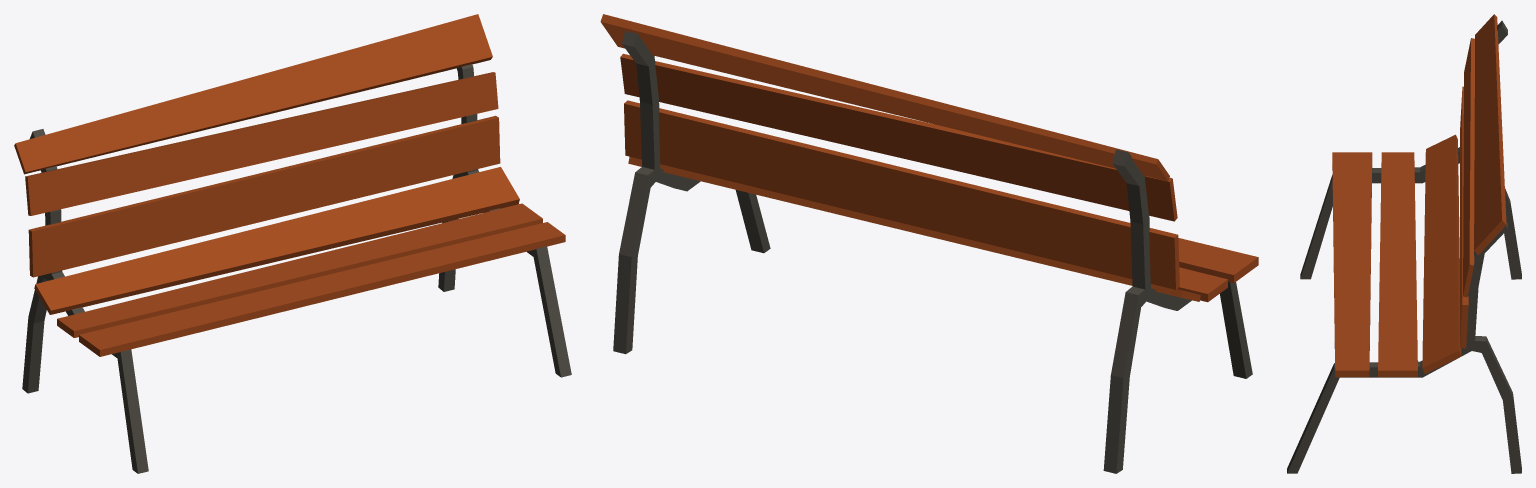
File: bench.fbx
3 renders of one model, left to right at view 1: azimuth 30°, elevation 25°; view 2: azimuth 150°, elevation 25°; view 3: azimuth 270°, elevation 25°, orthographic. The views are drawn at different scales.
Parts seen in each view (by area): view 1: КриваяБезье.001; view 2: КриваяБезье.001; view 3: КриваяБезье.001.
Boxes of the visible parts, <box> form: КриваяБезье.001: <box>14,14,571,473</box>; КриваяБезье.001: <box>600,14,1258,473</box>; КриваяБезье.001: <box>1287,14,1521,473</box>.
Bounding box in the file's own units: 184 × 103 × 83.63.
